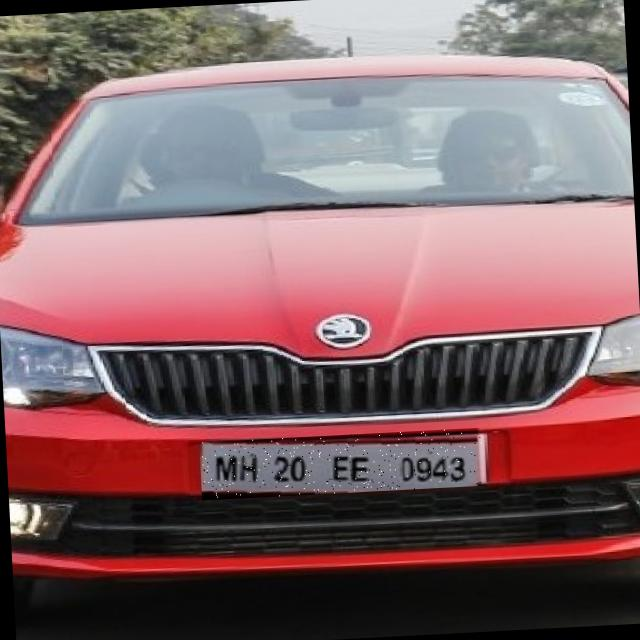Plate: (201, 429, 486, 502)
